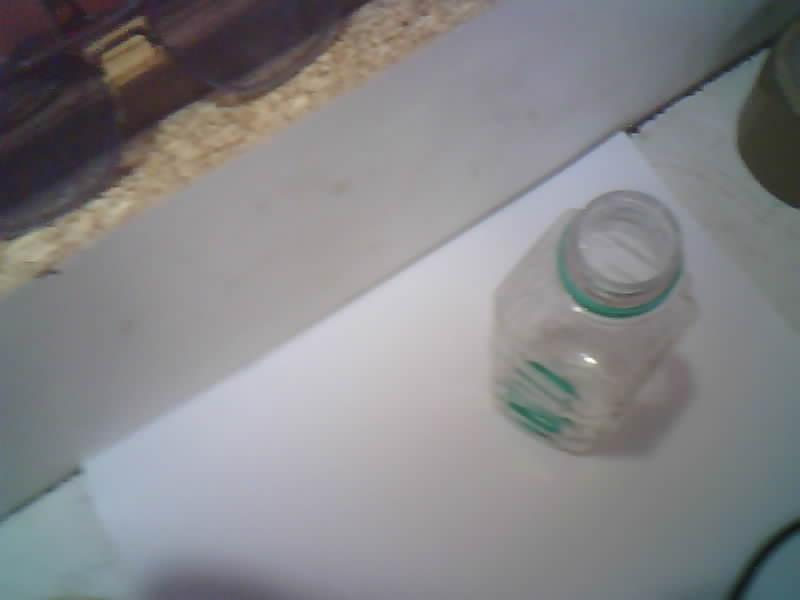non-biodegradable: (493, 191, 695, 451)
